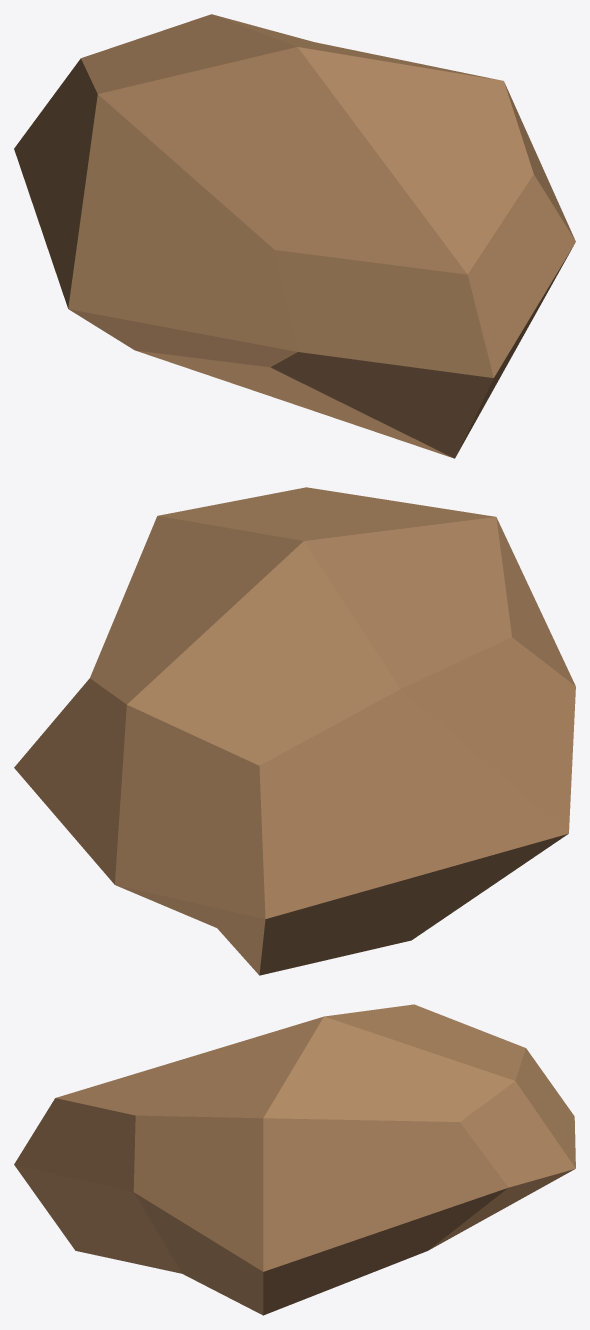
Rendered from Boulder.fbx.
3 views of the same model, one above another, from view 1: azimuth 30°, elevation 25°; view 2: azimuth 150°, elevation 25°; view 3: azimuth 270°, elevation 25° (orthographic). The views are drawn at different scales.
Visible parts, largest first — view 1: Boudler; view 2: Boudler; view 3: Boudler.
Part boxes in pixels (left/top/right/bottom): Boudler: left=14, top=14, right=575, bottom=458; Boudler: left=14, top=487, right=575, bottom=975; Boudler: left=14, top=1004, right=575, bottom=1315.
Size of the model in its own units: 4.07 by 2.9 by 5.62.
